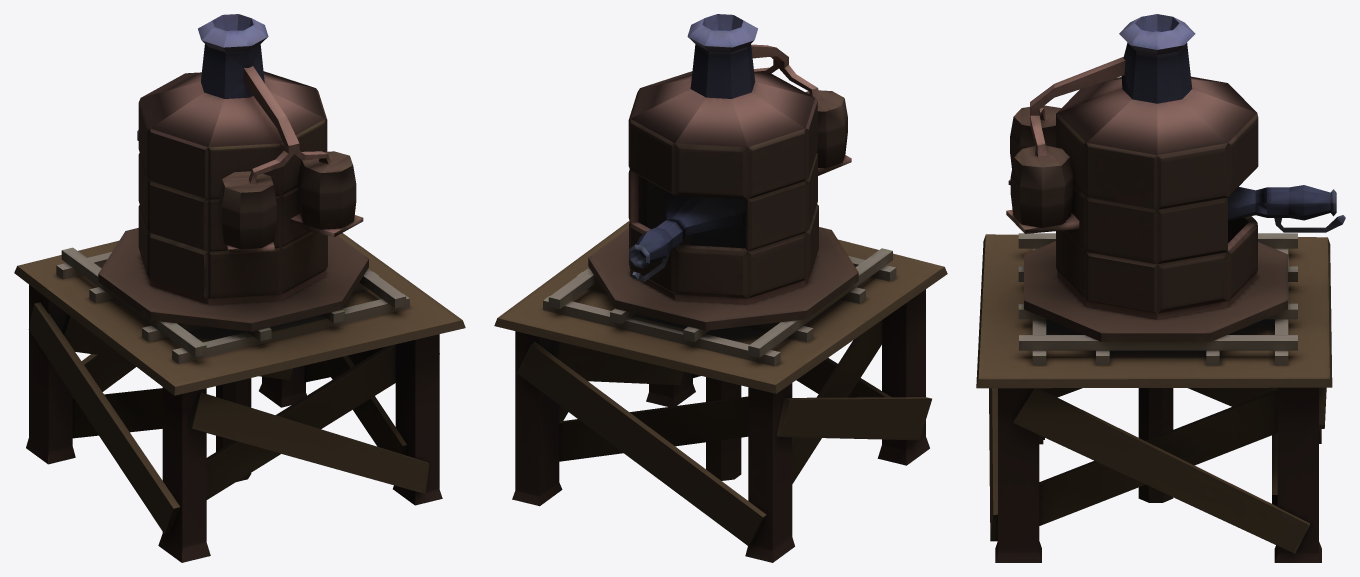
File: tile_flamethrower_lod0.fbx
The picture shows the model from 3 angles, left to right: view 1: azimuth 30°, elevation 25°; view 2: azimuth 150°, elevation 25°; view 3: azimuth 270°, elevation 25°; orthographic projection. The views are drawn at different scales.
Visible parts, largest first — view 1: Base_lod0, Flame_Launcher_lod0; view 2: Base_lod0, Flame_Launcher_lod0; view 3: Flame_Launcher_lod0, Base_lod0.
Part boxes in pixels (left/top/right/bottom): Base_lod0: left=14, top=233, right=465, bottom=562; Flame_Launcher_lod0: left=98, top=14, right=368, bottom=481; Base_lod0: left=494, top=220, right=947, bottom=562; Flame_Launcher_lod0: left=588, top=14, right=858, bottom=480; Flame_Launcher_lod0: left=1006, top=14, right=1345, bottom=502; Base_lod0: left=976, top=233, right=1332, bottom=562.
Bounding box in the file's own units: 0.0327 × 0.049 × 0.0347.
